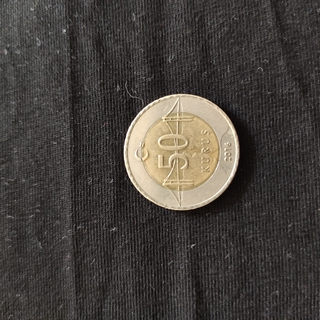50KURUS: (121, 91, 242, 212)
